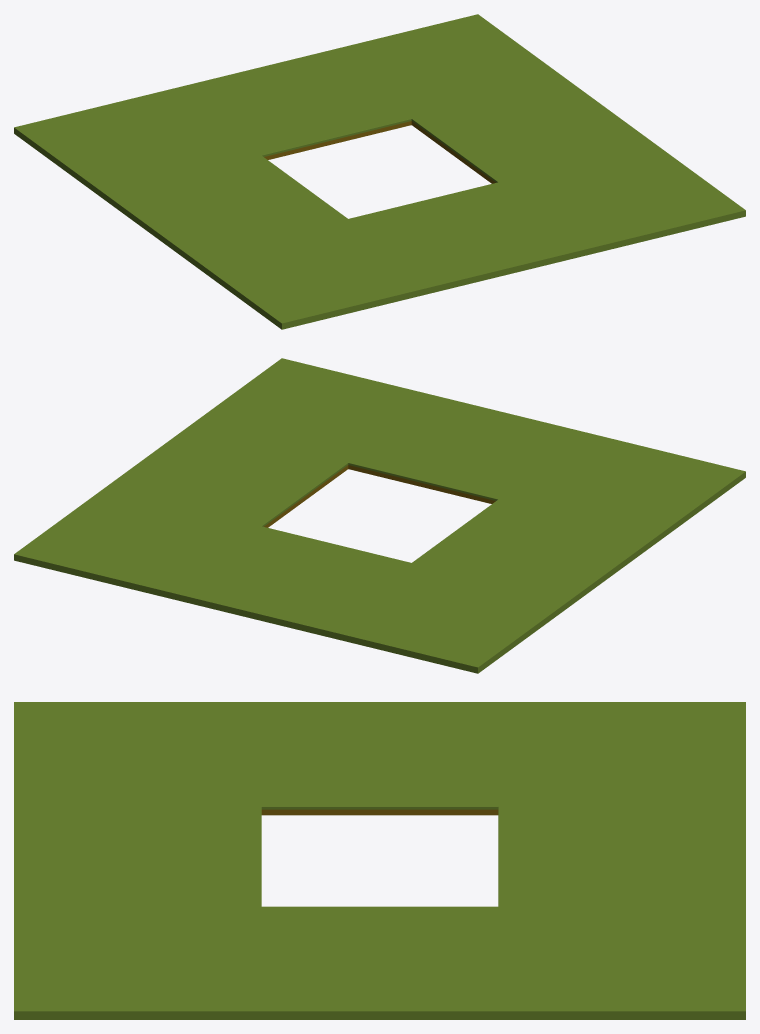
Rendered from Border.fbx.
The picture shows the model from 3 angles, top to bottom: view 1: azimuth 30°, elevation 25°; view 2: azimuth 150°, elevation 25°; view 3: azimuth 270°, elevation 25°; orthographic projection. The views are drawn at different scales.
Parts seen in each view (by area): view 1: Cube; view 2: Cube; view 3: Cube.
Boxes of the visible parts, <box> form: Cube: <box>14,14,745,329</box>; Cube: <box>14,358,745,673</box>; Cube: <box>14,702,745,1019</box>.
Size of the model in its own units: 155 by 155 by 2.
